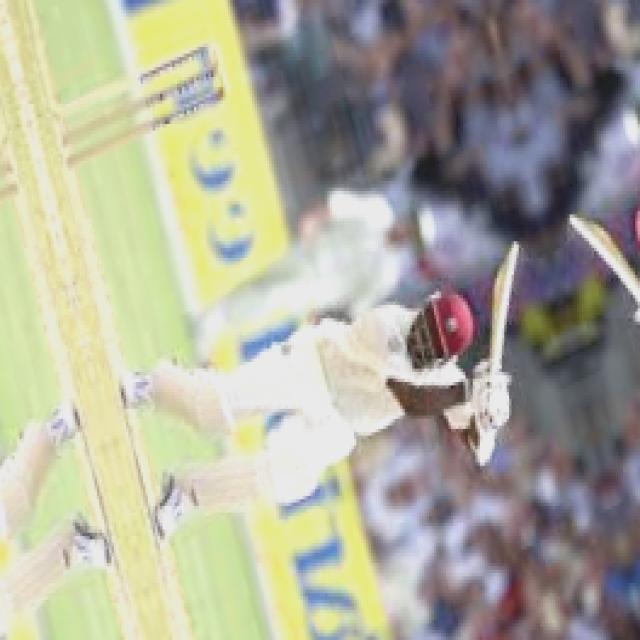bat: (481, 241, 525, 369)
